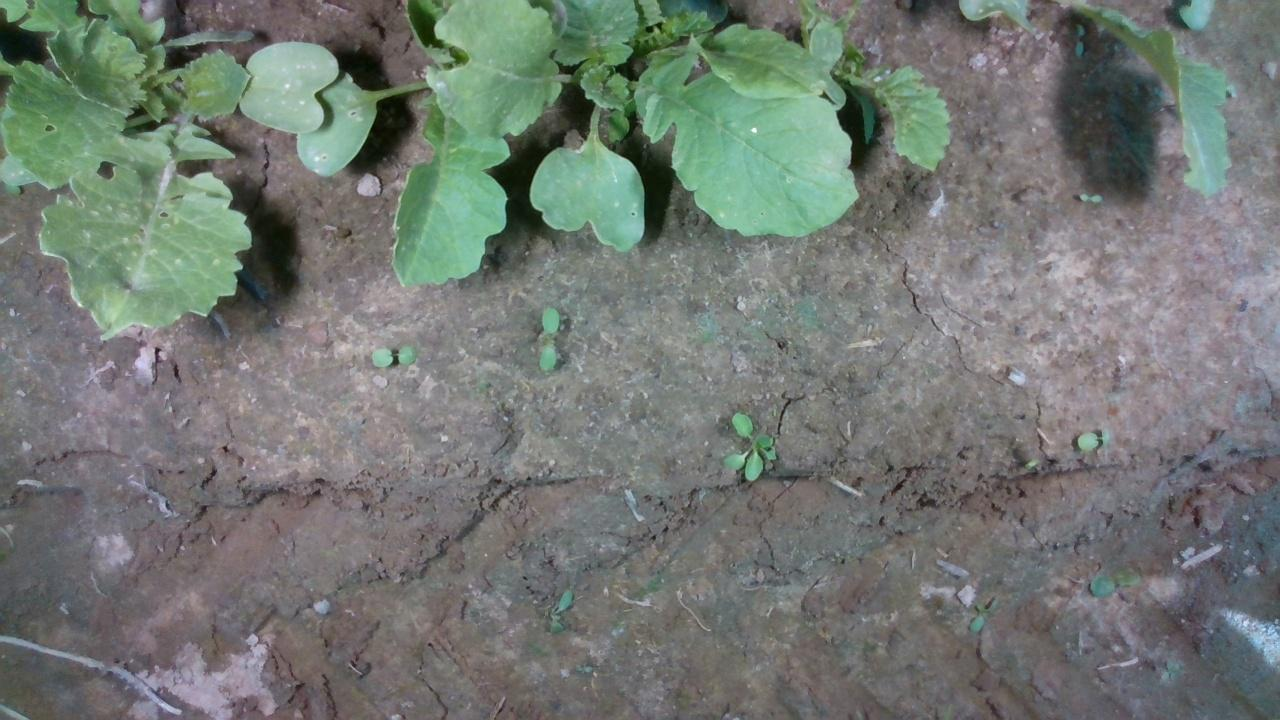weed: (537, 305, 559, 373), (1075, 423, 1115, 451), (369, 344, 416, 366)
